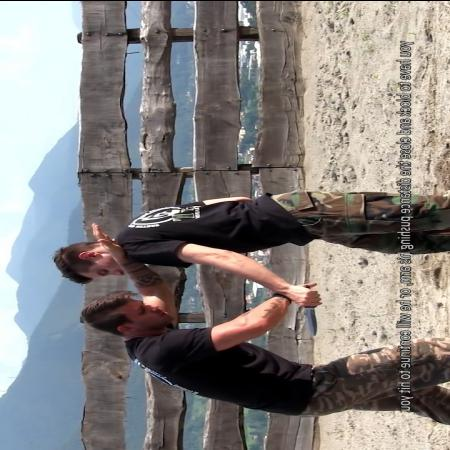long weapon: (293, 278, 321, 338)
